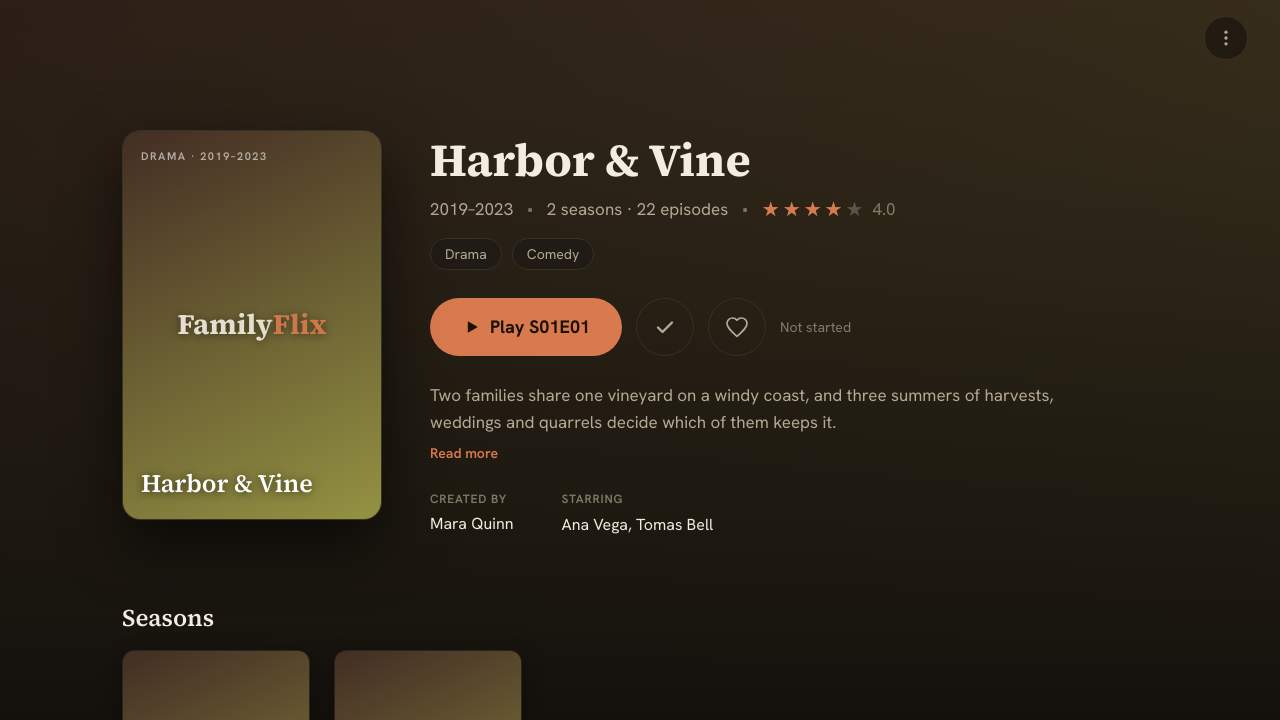
SeriesDetail — the ⋯ menu › opens the Delete dialog for this show, its What goes drawn
The width and height of the screenshot is (1280, 720).
Click the button named "More options": x=1226, y=38 [1204,16,1248,60]
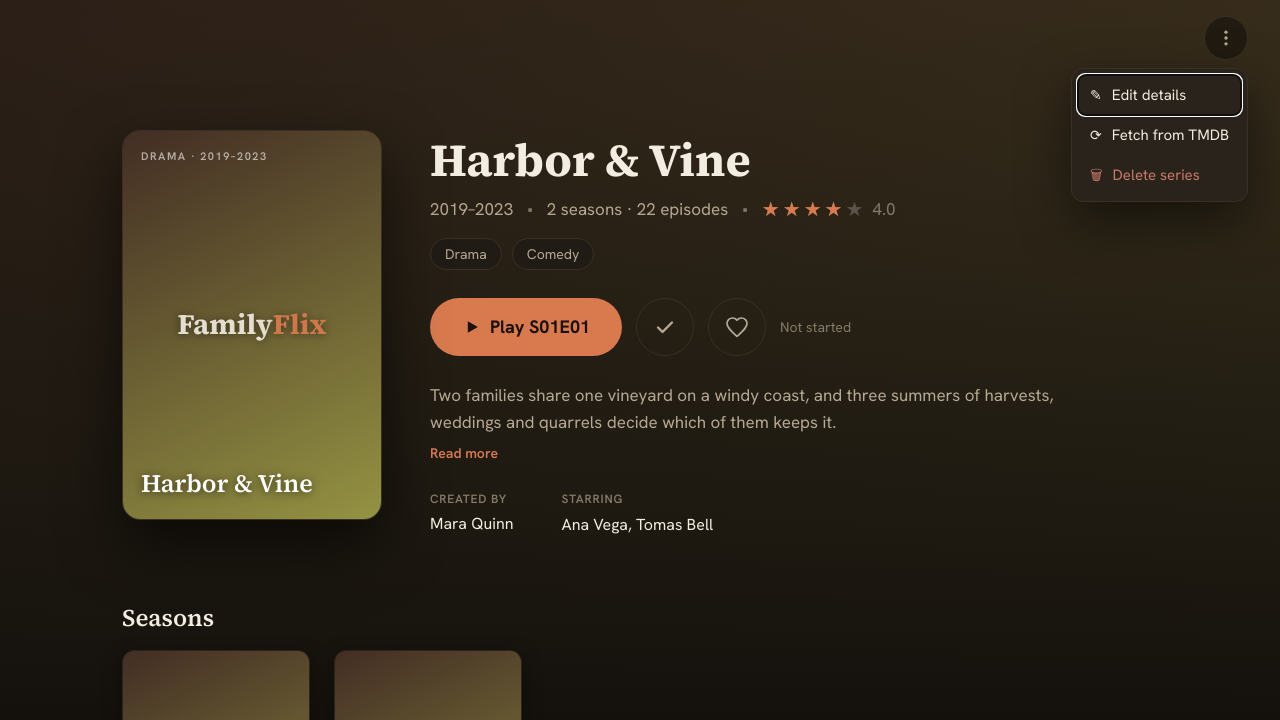
Click the menu item "🗑 Delete series": x=1160, y=175 [1078,155,1241,195]
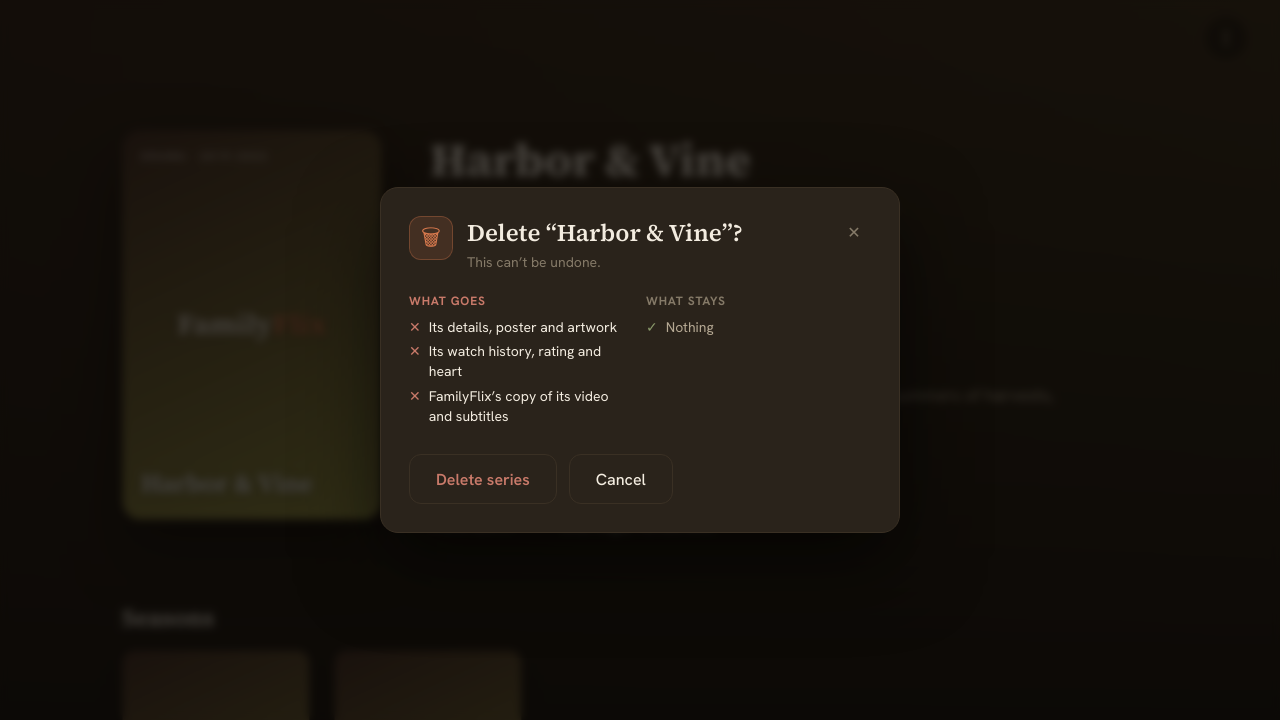
Expected: the text "What goes" is shown, [409,293,486,309]
